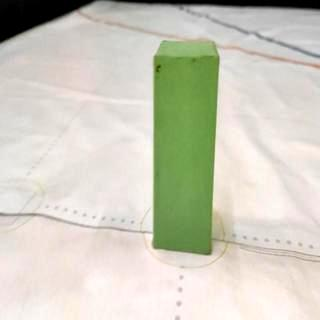greenbox: (154, 41, 222, 256)
